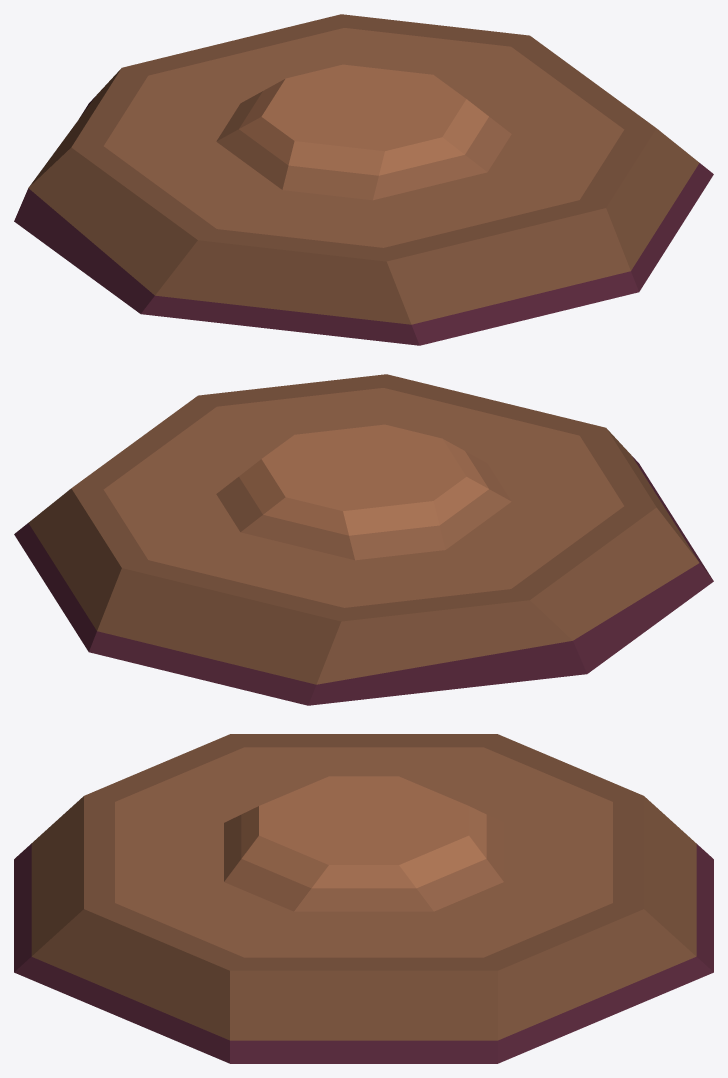
File: start.obj
3 renders of one model, top to bottom at view 1: azimuth 30°, elevation 25°; view 2: azimuth 150°, elevation 25°; view 3: azimuth 270°, elevation 25°, orthographic. The views are drawn at different scales.
Parts seen in each view (by area): view 1: Cube; view 2: Cube; view 3: Cube.
Part boxes in pixels (bbox=[...]): Cube: bbox=[14, 14, 713, 345]; Cube: bbox=[14, 374, 713, 705]; Cube: bbox=[14, 734, 713, 1063].
Bounding box in the file's own units: 2 × 0.3 × 2.
1 material, 1 textured.
